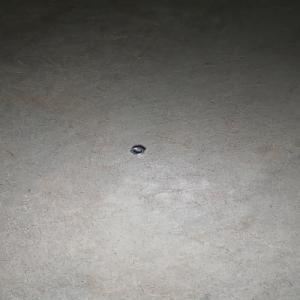Nut: (129, 147, 145, 156)
